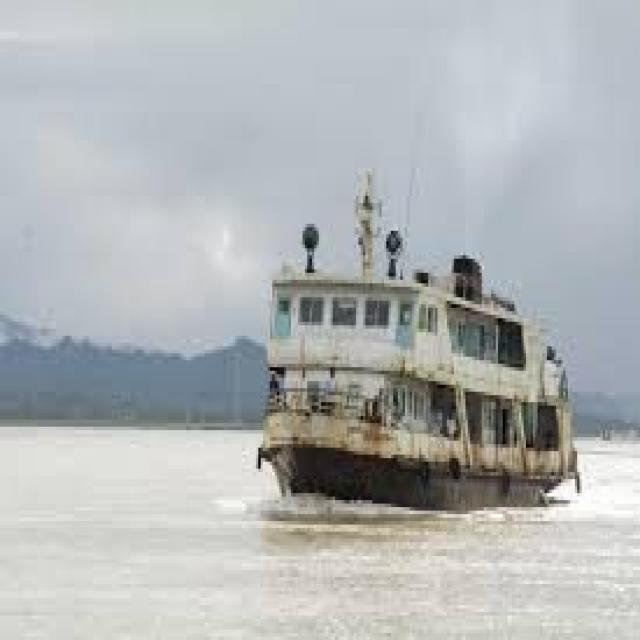passenger ship: (254, 211, 582, 507)
